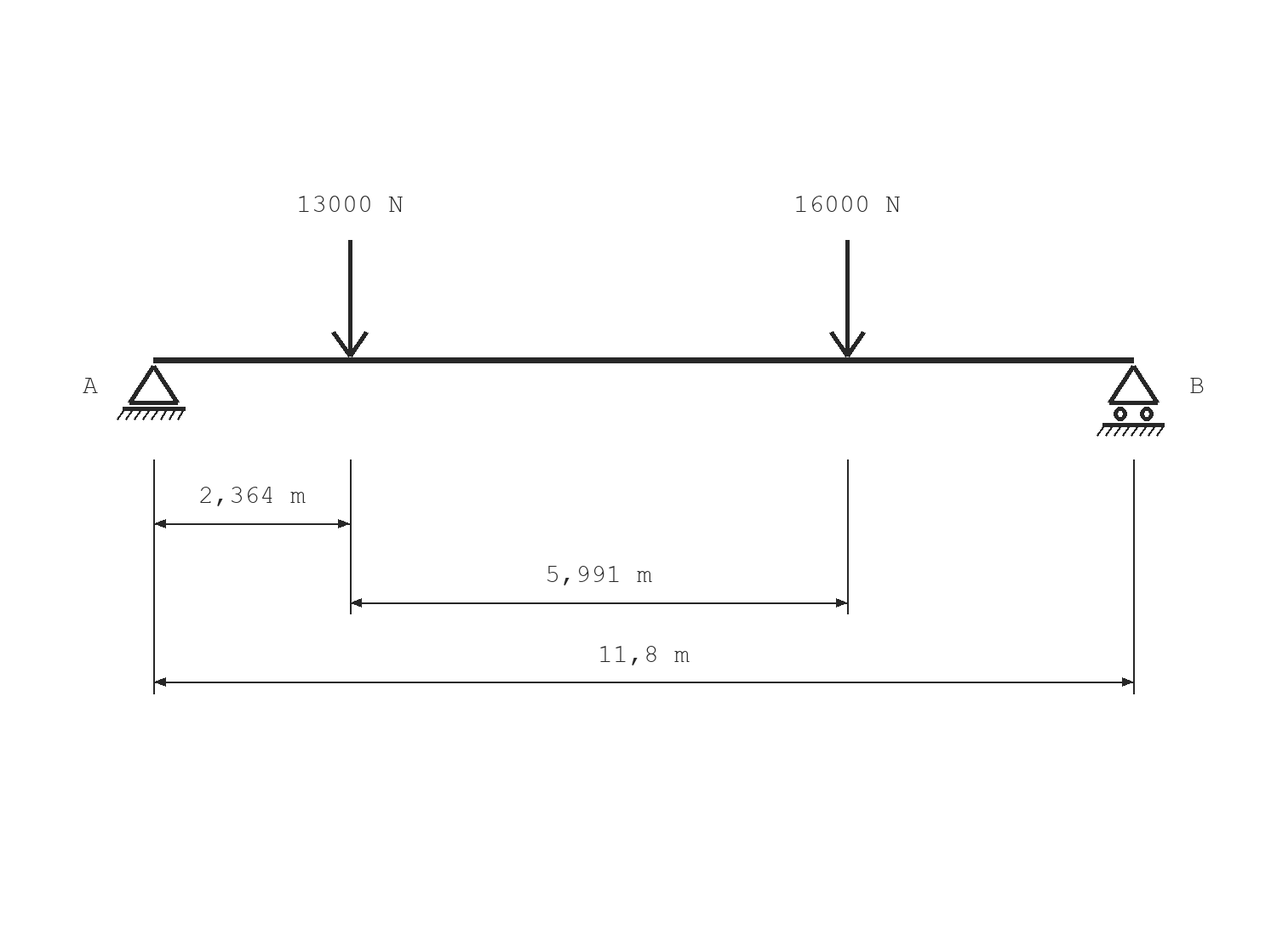pin_support: (117, 365, 186, 420)
point_load: (331, 240, 369, 357), (829, 240, 866, 357)
roller_support: (1097, 365, 1165, 437)
